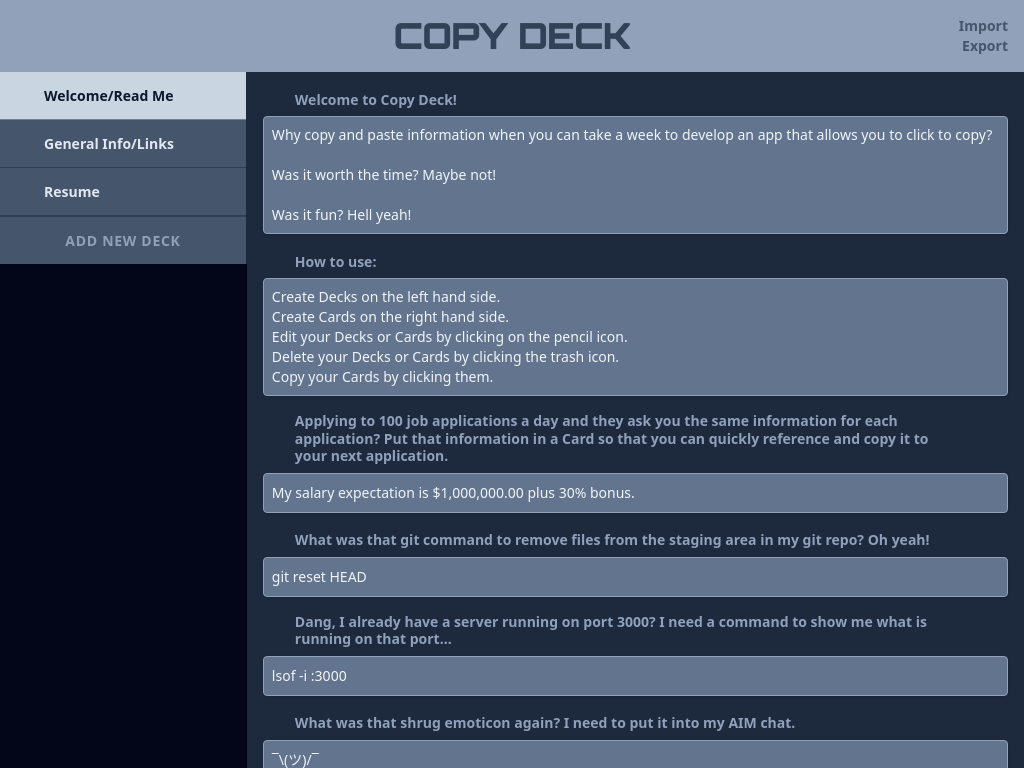
Test: App Component › adds a new deck and sets it as active
Click the text "Add New Deck" at (123, 240), box [65,230,180,250]
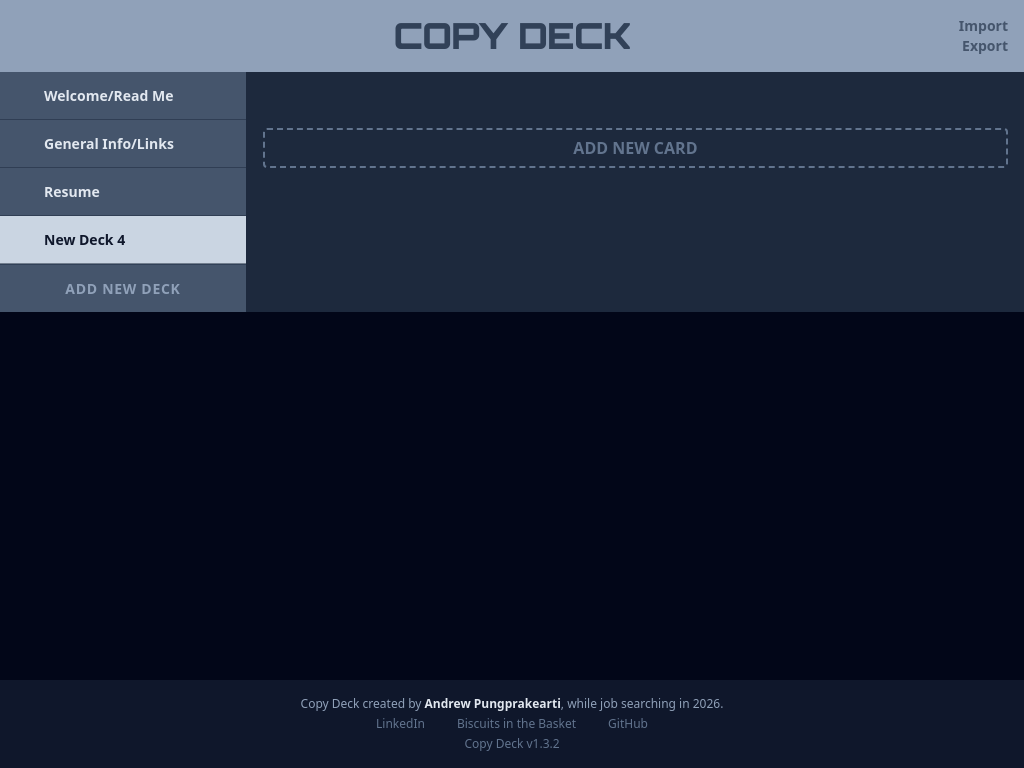
Expected: the text "New Deck 4" is shown, [44,230,125,248]
